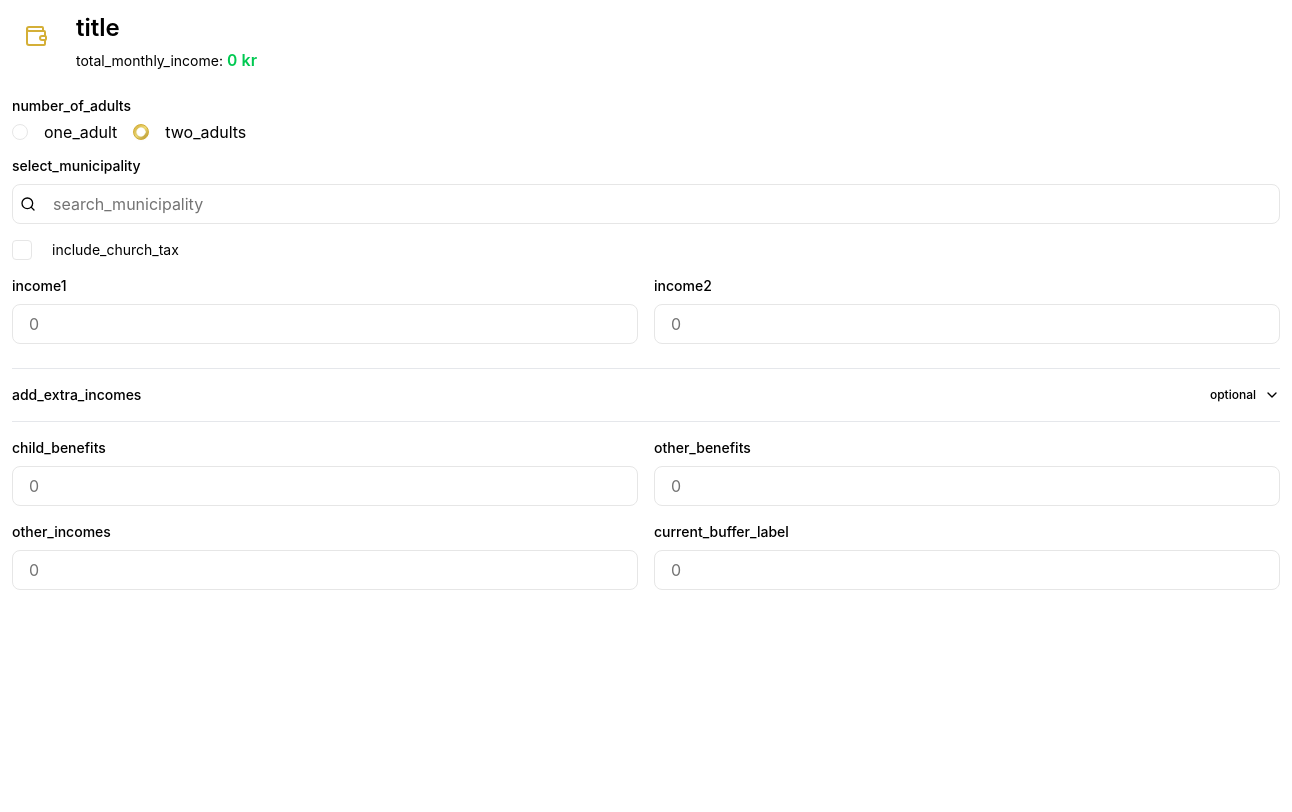
Income › renders all form fields for 2 adults
Expected: the element named "number_of_adults" is shown, [12, 122, 246, 142]
Expected: the radio button named "one_adult" next to "one_adult" is shown, [12, 124, 28, 140]
Expand extra incomes
Click the text "add_extra_incomes" at (77, 395), box [12, 385, 141, 405]
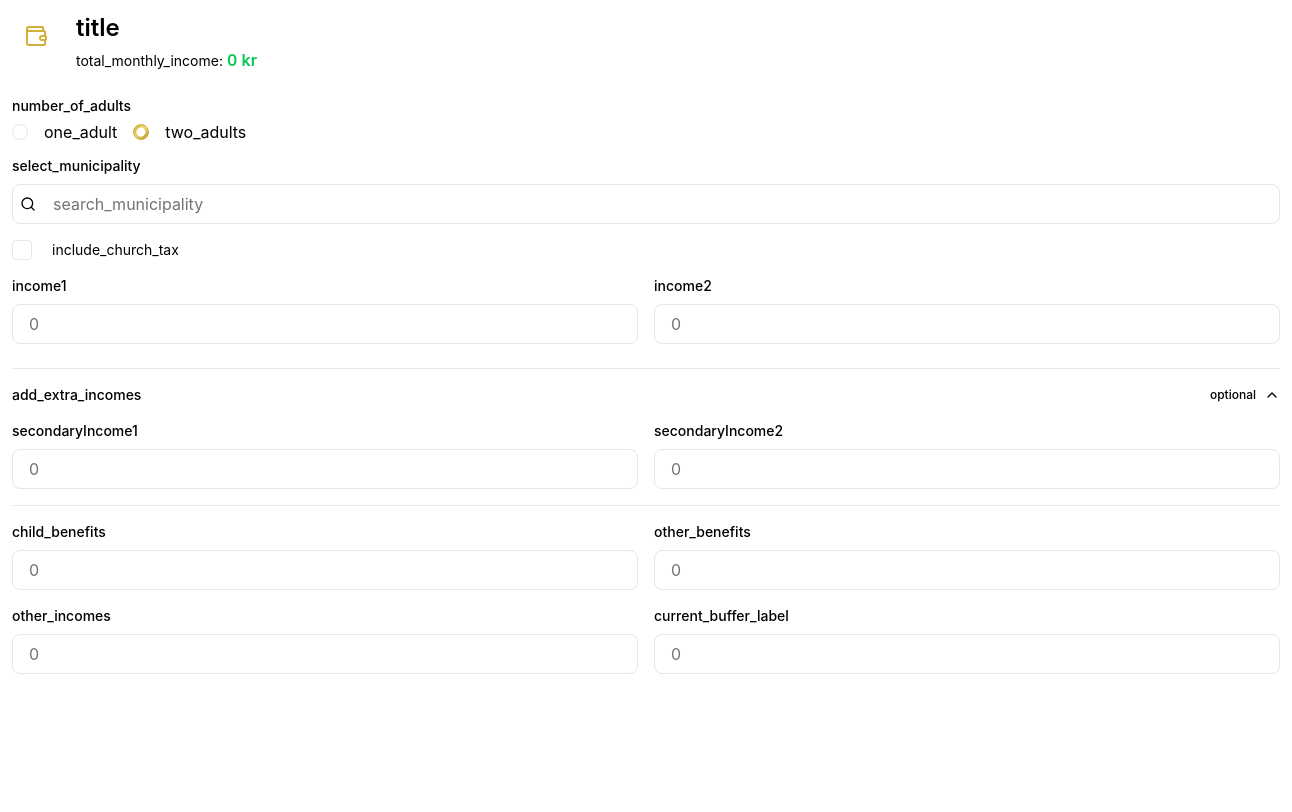
Expected: the field named "child_benefits_aria" is shown, [12, 550, 638, 590]
Now the field named "secondaryIncome1_aria" is shown, box [12, 449, 638, 489]
Now the field named "secondaryIncome2_aria" is shown, box [654, 449, 1280, 489]
